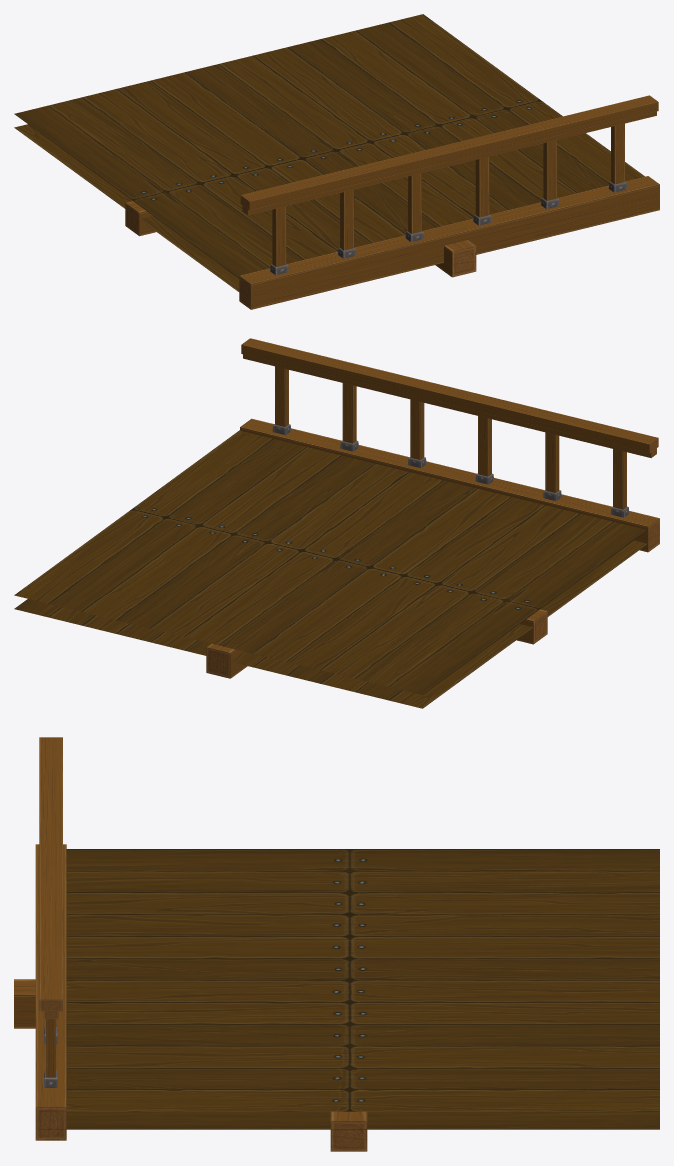
File: SM_Terrace_Floor_Side.fbx
3 renders of one model, top to bottom at view 1: azimuth 30°, elevation 25°; view 2: azimuth 150°, elevation 25°; view 3: azimuth 270°, elevation 25°, orthographic. The views are drawn at different scales.
Visible parts, largest first — view 1: SM_Terrace_Floor_Side; view 2: SM_Terrace_Floor_Side; view 3: SM_Terrace_Floor_Side.
Part boxes in pixels (x1=…): SM_Terrace_Floor_Side: x1=14, y1=14, x2=659, y2=309; SM_Terrace_Floor_Side: x1=14, y1=338, x2=659, y2=708; SM_Terrace_Floor_Side: x1=14, y1=737, x2=659, y2=1151.
Bounding box in the file's own units: 5.01 × 1.35 × 5.21.
